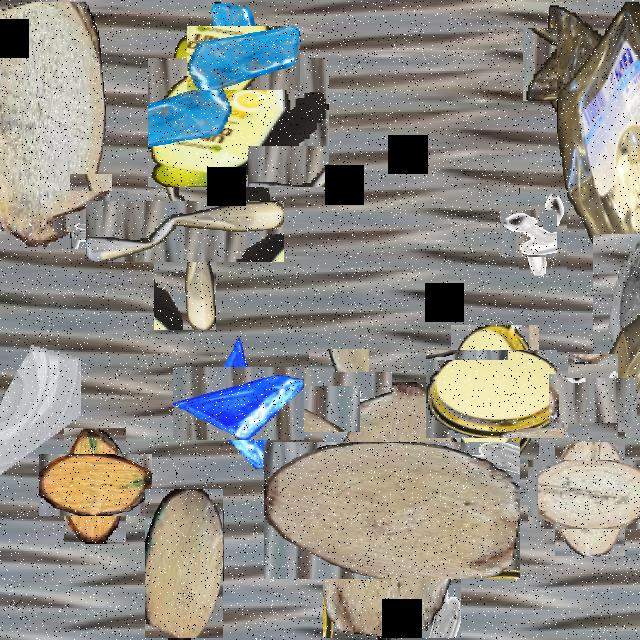glass: (0, 309, 80, 473), (188, 352, 290, 455), (198, 14, 288, 103), (593, 234, 640, 394)
metal: (298, 360, 380, 444), (457, 439, 519, 549), (558, 363, 628, 433), (509, 200, 576, 266), (62, 182, 120, 241)
plastic: (557, 2, 640, 378), (161, 45, 317, 200), (120, 166, 250, 296), (438, 338, 552, 451), (536, 14, 634, 114)
wood: (294, 412, 491, 608), (0, 2, 105, 247), (145, 489, 223, 638), (542, 445, 638, 543), (51, 442, 139, 530)
